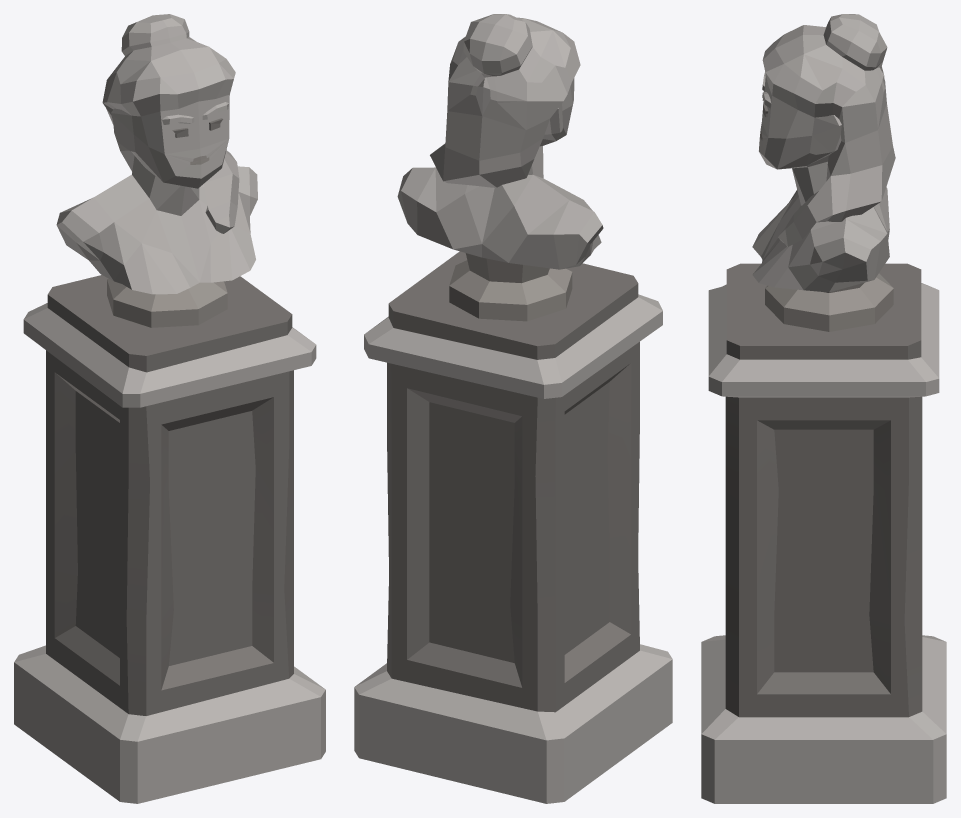
File: statue.fbx
3 renders of one model, left to right at view 1: azimuth 30°, elevation 25°; view 2: azimuth 150°, elevation 25°; view 3: azimuth 270°, elevation 25°, orthographic. The views are drawn at different scales.
Visible parts, largest first — view 1: statue; view 2: statue; view 3: statue.
Part boxes in pixels (left/top/right/bottom): statue: left=14, top=14, right=325, bottom=803; statue: left=354, top=14, right=672, bottom=803; statue: left=701, top=14, right=946, bottom=803.
Bounding box in the file's own units: 45.29 × 150 × 45.29.
1 material, 1 textured.
